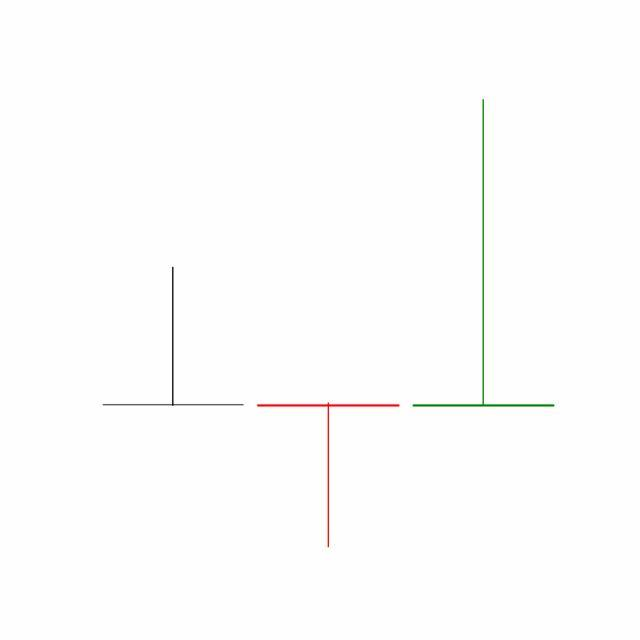Dragonfly Doji: (250, 402, 407, 550)
